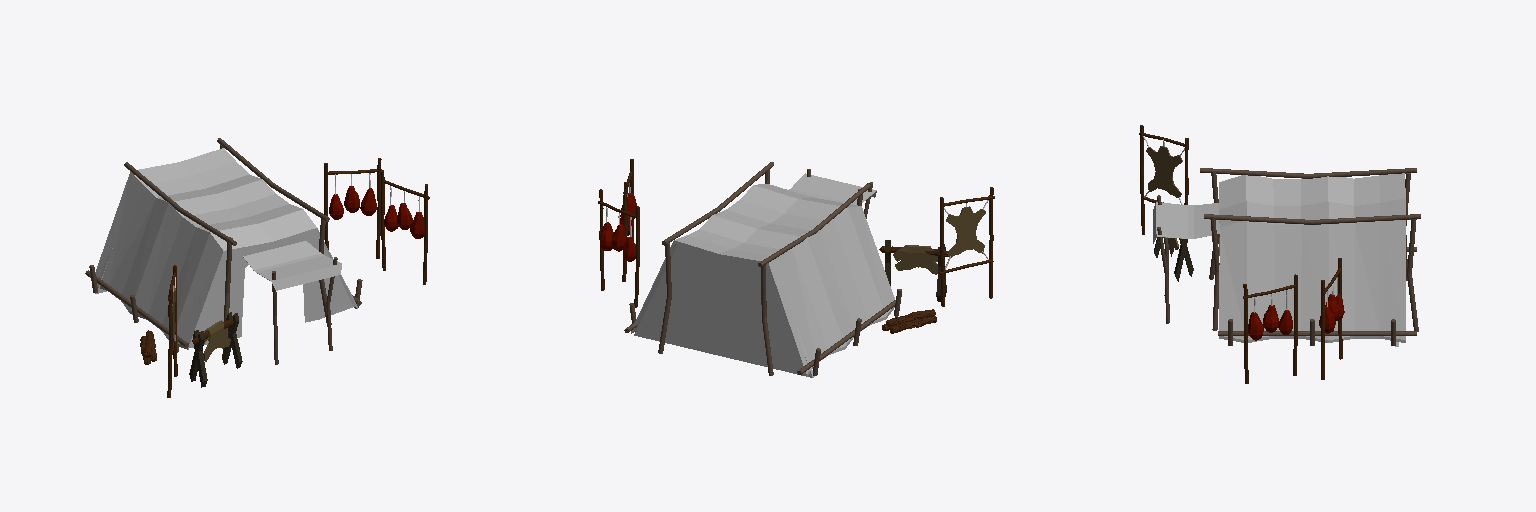
Rendered from TENT.obj.
The picture shows the model from 3 angles: view 1: azimuth 30°, elevation 25°; view 2: azimuth 150°, elevation 25°; view 3: azimuth 270°, elevation 25°; orthographic projection.
Visible parts, largest first — view 1: Tent; view 2: Tent; view 3: Tent.
Part boxes in pixels (bbox=[...]): Tent: bbox=[85, 138, 429, 397]; Tent: bbox=[598, 159, 994, 377]; Tent: bbox=[1139, 125, 1420, 383].
Bounding box in the file's own units: 301 × 106 × 232.